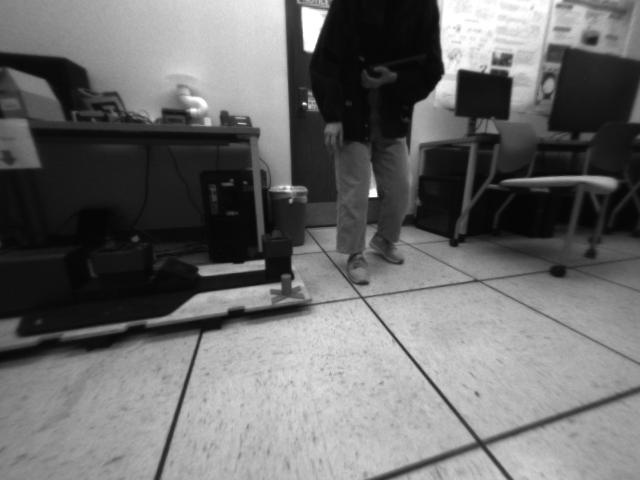x: (269, 272, 304, 303)
